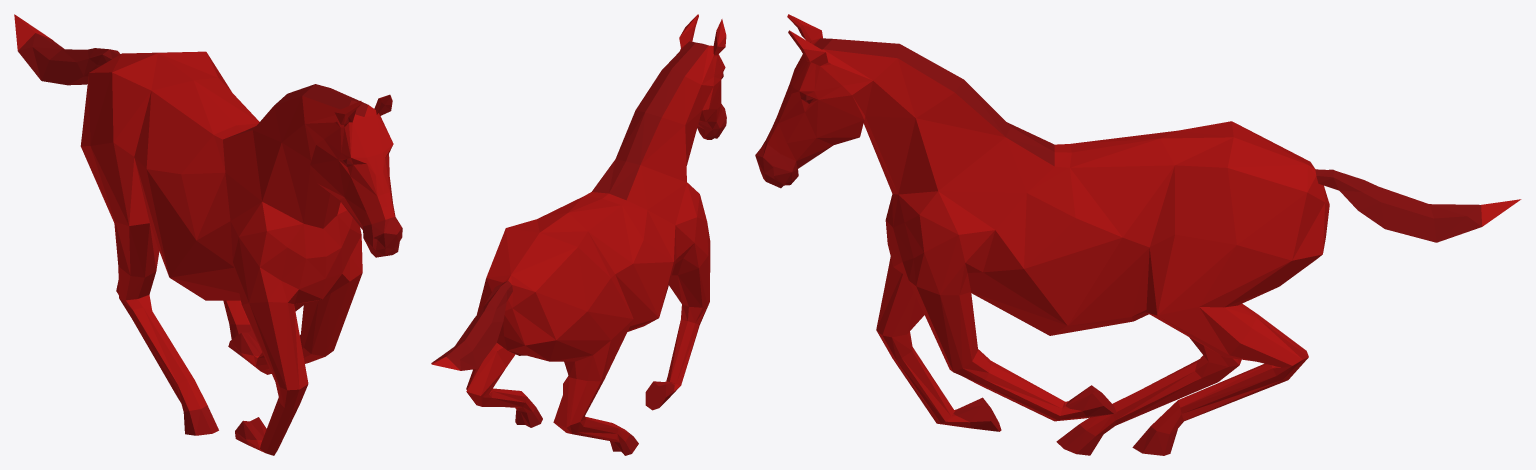
The model's file is Horse.glb.
3 views of the same model, side by side, from view 1: azimuth 30°, elevation 25°; view 2: azimuth 150°, elevation 25°; view 3: azimuth 270°, elevation 25° (orthographic). The views are drawn at different scales.
Visible parts, largest first — view 1: mesh_0; view 2: mesh_0; view 3: mesh_0.
Boxes of the visible parts, x1,y1,x2,y2 form: mesh_0: (14,14,402,455); mesh_0: (431,14,726,455); mesh_0: (755,14,1521,455).
Bounding box in the file's own units: 66.06 × 178 × 277.
